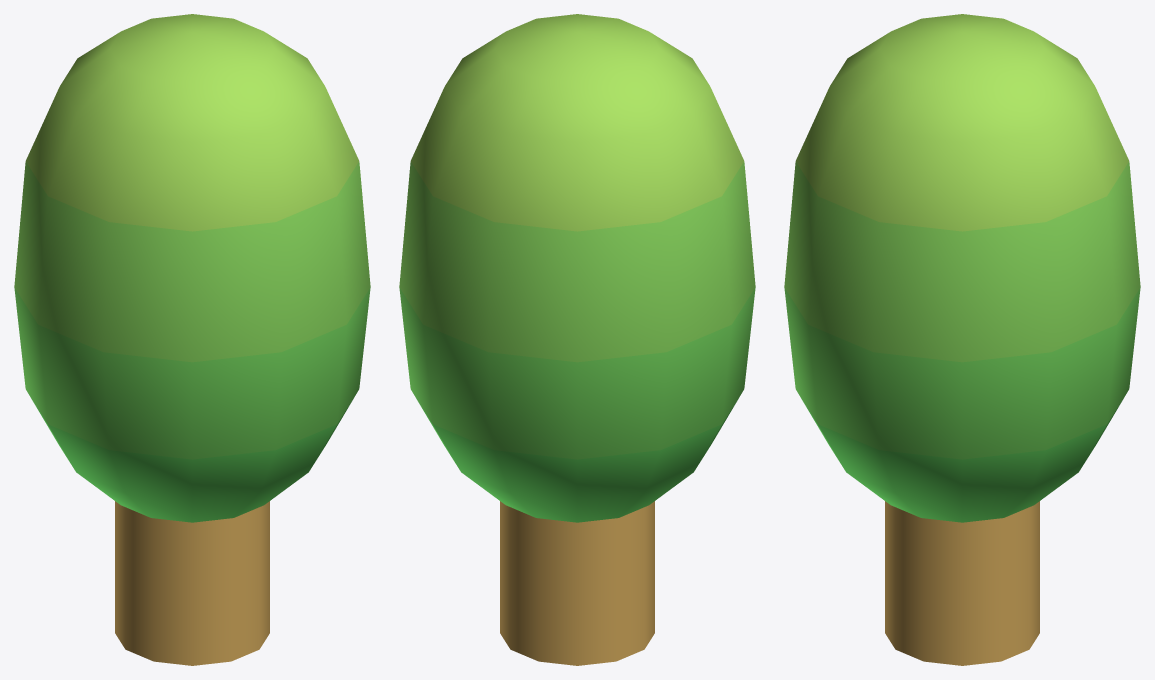
File: tree_L.fbx
3 renders of one model, left to right at view 1: azimuth 30°, elevation 25°; view 2: azimuth 150°, elevation 25°; view 3: azimuth 270°, elevation 25°, orthographic.
Visible parts, largest first — view 1: tree_L; view 2: tree_L; view 3: tree_L.
Part boxes in pixels (x1,y1,x2,y2): tree_L: (14, 14, 370, 665); tree_L: (399, 14, 755, 665); tree_L: (784, 14, 1140, 665).
Size of the model in its own units: 138 by 257 by 138.
